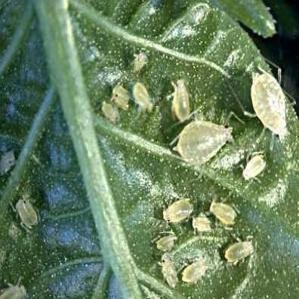Green peach aphid: (224, 53, 299, 146), (167, 119, 237, 172), (152, 186, 197, 232), (163, 64, 198, 123), (216, 234, 262, 271), (124, 67, 157, 118), (204, 189, 242, 232), (236, 144, 271, 190), (7, 193, 46, 230), (148, 251, 184, 290), (174, 253, 210, 289), (91, 97, 126, 134), (111, 80, 137, 124), (146, 225, 181, 254), (120, 43, 151, 75), (187, 209, 215, 241), (1, 270, 29, 299), (0, 148, 26, 178)
